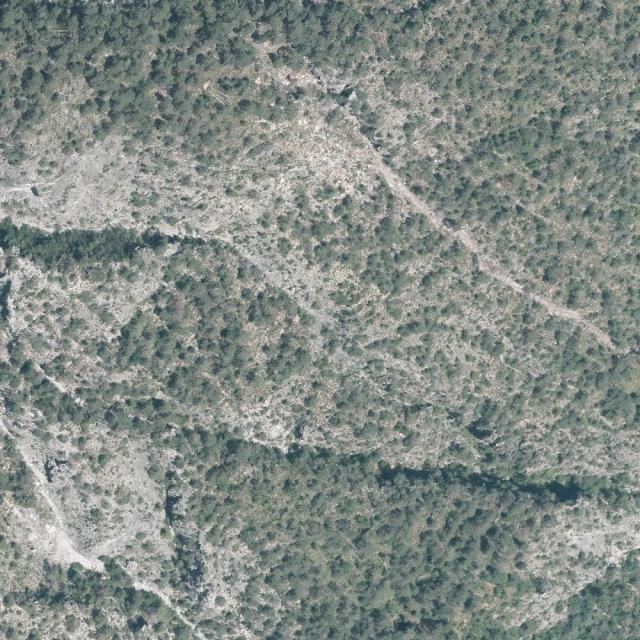greenland: (0, 226, 640, 640), (278, 246, 640, 487), (243, 374, 322, 451)
